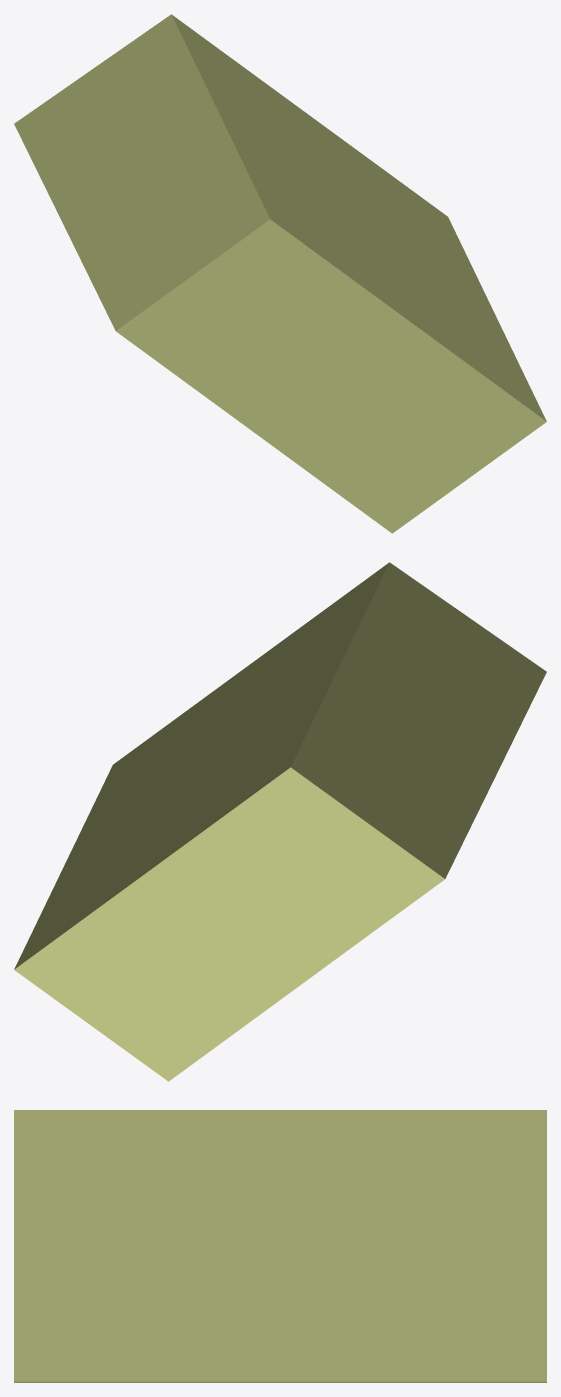
The picture shows the model from 3 angles, top to bottom: view 1: azimuth 30°, elevation 25°; view 2: azimuth 150°, elevation 25°; view 3: azimuth 270°, elevation 25°; orthographic projection. The views are drawn at different scales.
Parts seen in each view (by area): view 1: 0_1_1_3_2_1_3_3_3_1; view 2: 0_1_1_3_2_1_3_3_3_1; view 3: 0_1_1_3_2_1_3_3_3_1.
Boxes of the visible parts, x1,y1,x2,y2 form: 0_1_1_3_2_1_3_3_3_1: [14, 14, 546, 533]; 0_1_1_3_2_1_3_3_3_1: [14, 562, 546, 1081]; 0_1_1_3_2_1_3_3_3_1: [14, 1110, 546, 1382].
Size of the model in its own units: 3.21 by 3.63 by 6.
